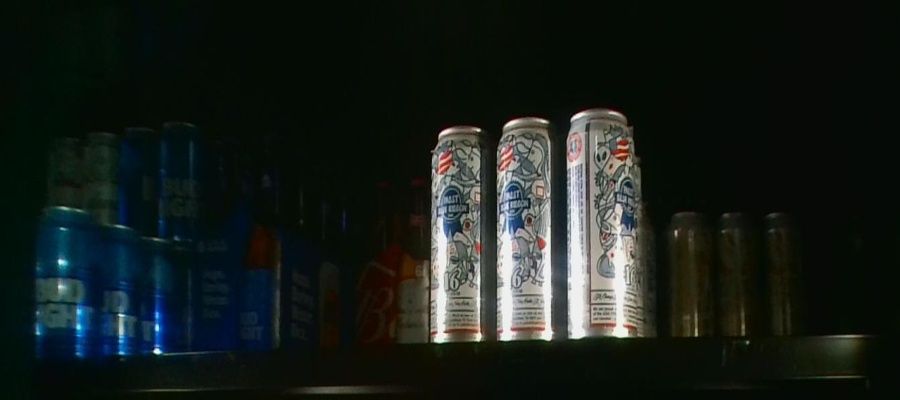bottle: (429, 124, 648, 337), (201, 139, 344, 340), (36, 232, 187, 361), (667, 208, 805, 340), (345, 169, 427, 337)
